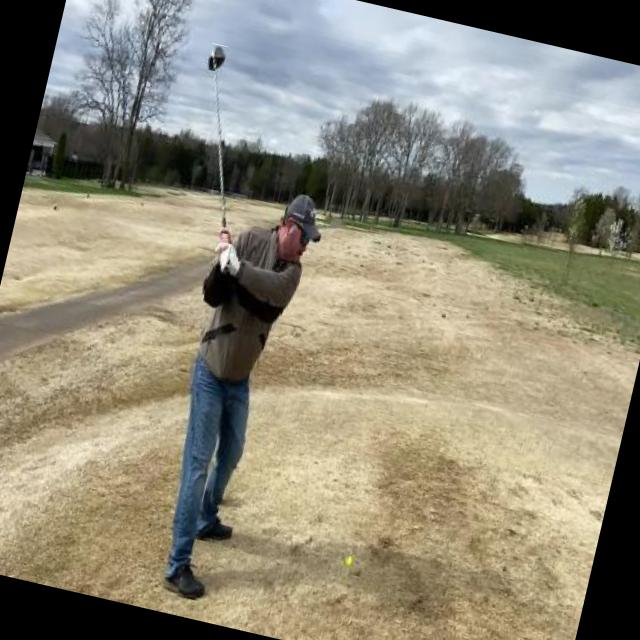club head: (205, 42, 228, 72)
